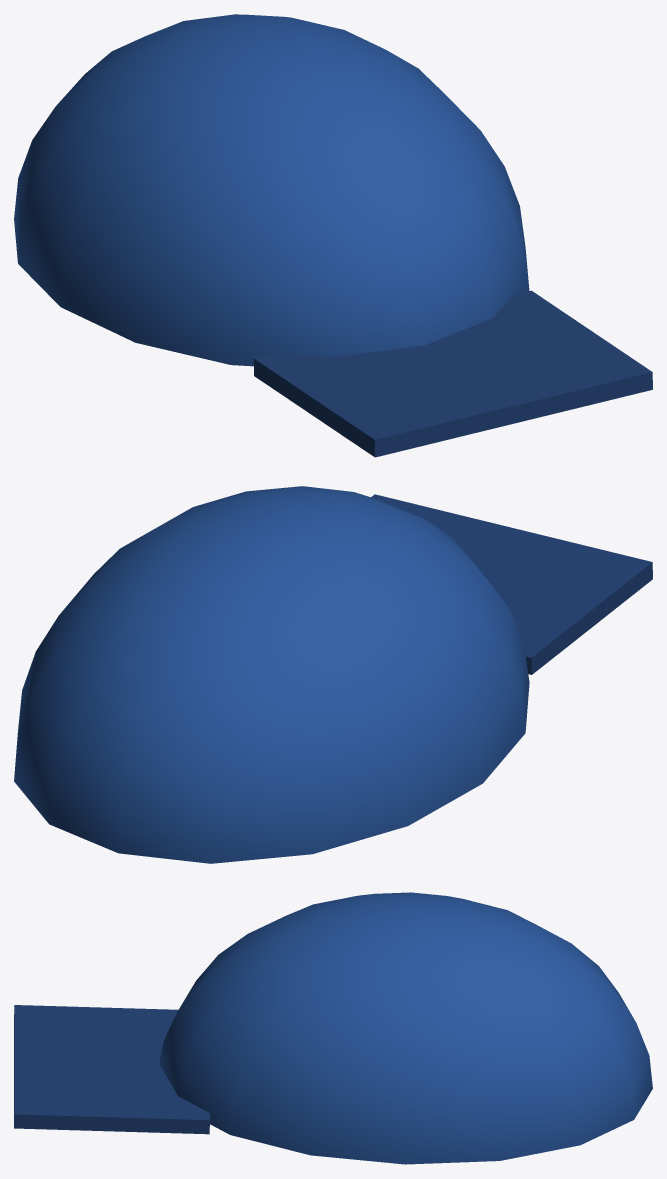
The model's file is cap_f.glb.
The picture shows the model from 3 angles, top to bottom: view 1: azimuth 30°, elevation 25°; view 2: azimuth 150°, elevation 25°; view 3: azimuth 270°, elevation 25°; orthographic projection. The views are drawn at different scales.
Parts seen in each view (by area): view 1: cap_f; view 2: cap_f; view 3: cap_f.
Boxes of the visible parts, <box> form: cap_f: <box>14,14,652,457</box>; cap_f: <box>14,486,652,863</box>; cap_f: <box>14,892,652,1164</box>.
Size of the model in its own units: 0.2026 by 0.1006 by 0.3288.
